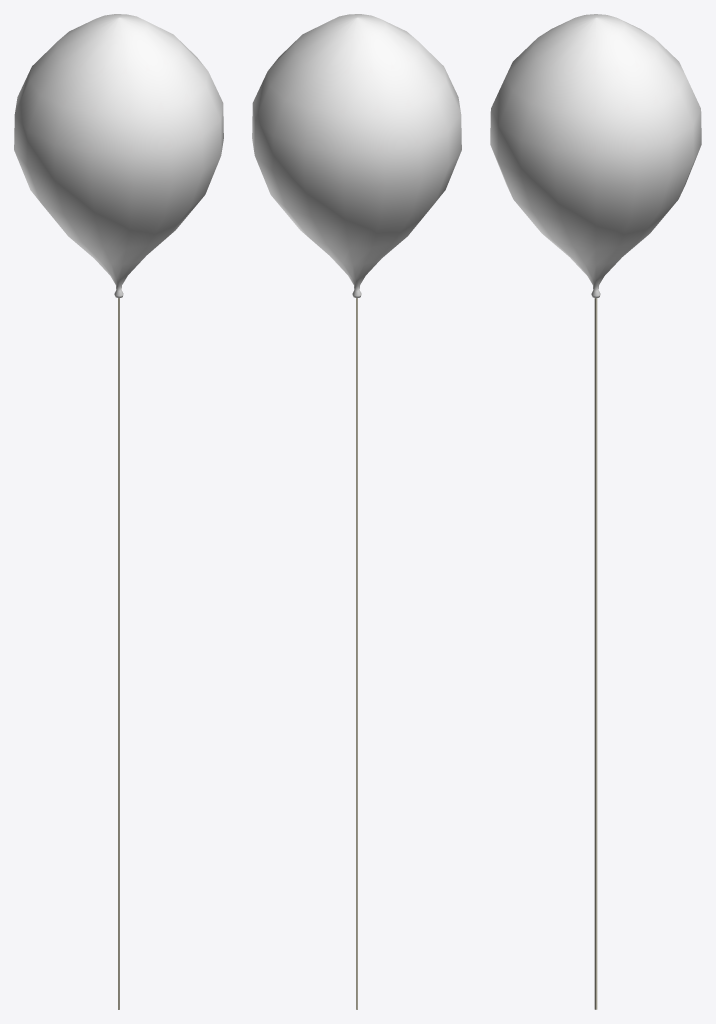
Rendered from party_balloon.glb.
3 renders of one model, left to right at view 1: azimuth 30°, elevation 25°; view 2: azimuth 150°, elevation 25°; view 3: azimuth 270°, elevation 25°, orthographic.
Visible parts, largest first — view 1: balloon_body; view 2: balloon_body; view 3: balloon_body.
Part boxes in pixels (x1,y1,x2,y2): balloon_body: (14,14,223,298); balloon_body: (252,14,461,298); balloon_body: (490,14,701,298).
Bounding box in the file's own units: 0.296 × 1.53 × 0.296.
2 materials, 2 textured.
